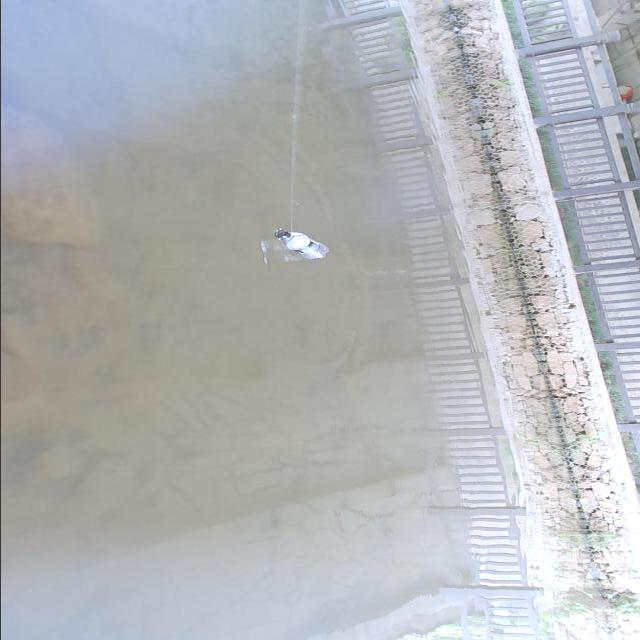bottle: (271, 225, 331, 272)
